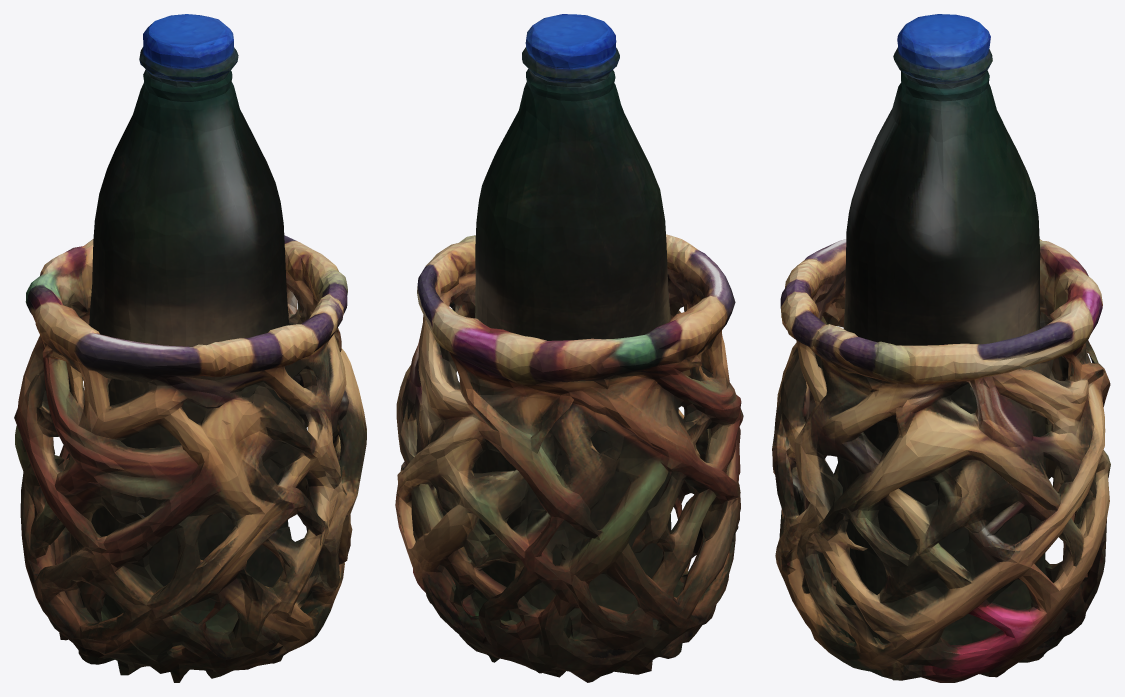
The model's file is jute-water-bottle-holder-new-style.jpeg.glb.
3 renders of one model, left to right at view 1: azimuth 30°, elevation 25°; view 2: azimuth 150°, elevation 25°; view 3: azimuth 270°, elevation 25°, orthographic.
Visible parts, largest first — view 1: world; view 2: world; view 3: world.
Part boxes in pixels (<box>): world: <box>14,14,366,682</box>; world: <box>395,14,743,682</box>; world: <box>772,14,1110,682</box>.
Bounding box in the file's own units: 0.5125 × 0.9994 × 0.4994.
Materials: 1 (1 with a texture image).
